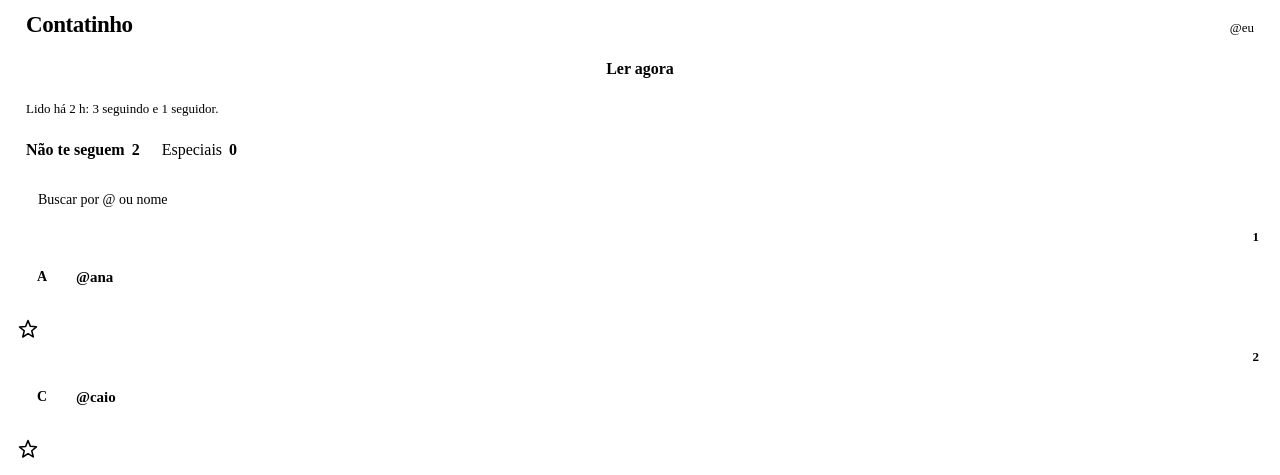
Test: App › durante a leitura as linhas ficam desativadas e o progresso aparece
Click the button "Ler agora". click: x=640, y=69
box: [26,49,1254,89]
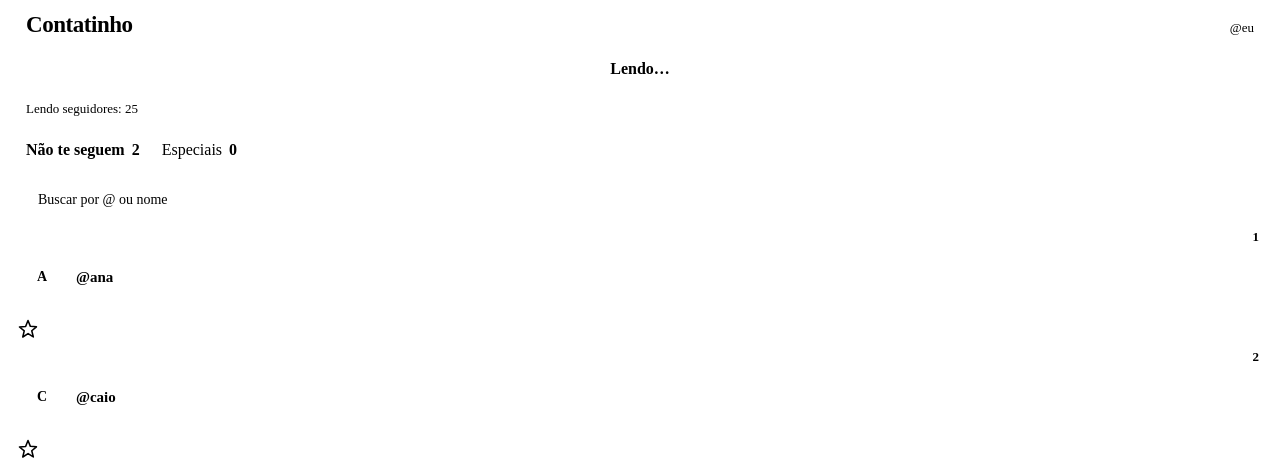
Expected: the button with aria-label "Abrir perfil de @ana" is disabled, [8,245,1266,309]
Expected: the text "Lendo seguidores: 25" is shown, [26,101,138,116]
